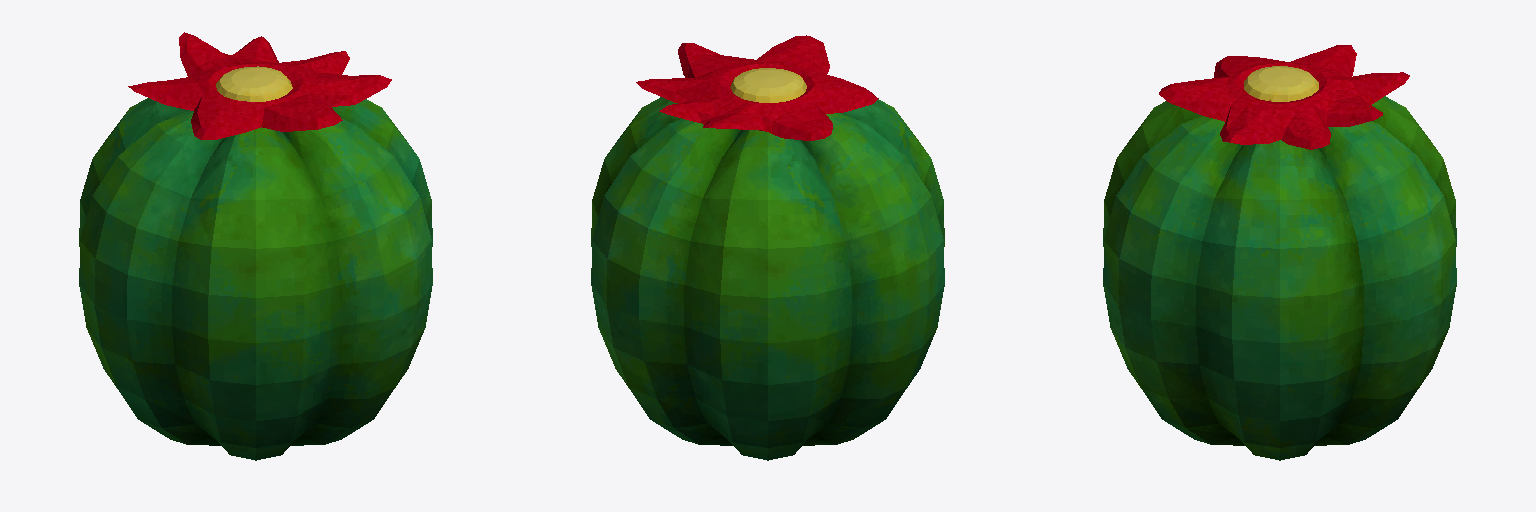
3 views of the same model, side by side, from view 1: azimuth 30°, elevation 25°; view 2: azimuth 150°, elevation 25°; view 3: azimuth 270°, elevation 25° (orthographic).
Visible parts, largest first — view 1: Cactus__MI_Cactus_01; view 2: Cactus__MI_Cactus_01; view 3: Cactus__MI_Cactus_01.
Boxes of the visible parts, x1=… form: Cactus__MI_Cactus_01: x1=79, y1=32, x2=432, y2=460; Cactus__MI_Cactus_01: x1=591, y1=35, x2=944, y2=460; Cactus__MI_Cactus_01: x1=1103, y1=45, x2=1456, y2=460.
Size of the model in its own units: 1.34 by 1.43 by 1.28.
1 materials, 1 textured.